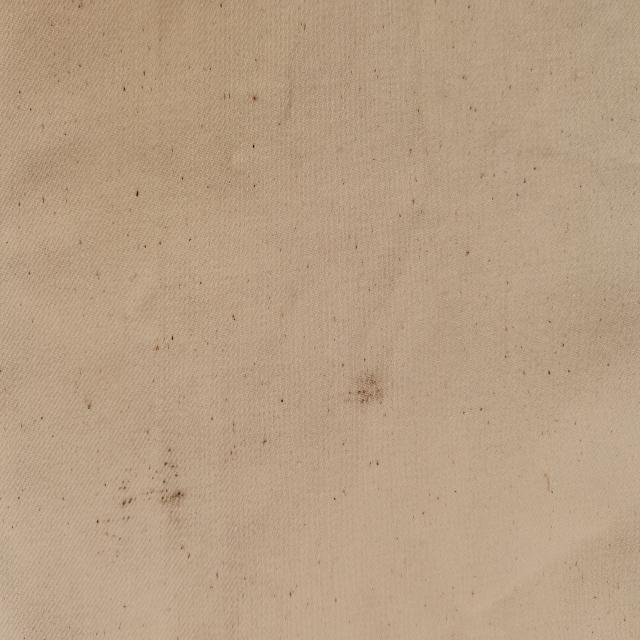taaaches: (99, 482, 140, 549), (345, 351, 388, 414), (159, 456, 186, 528)
